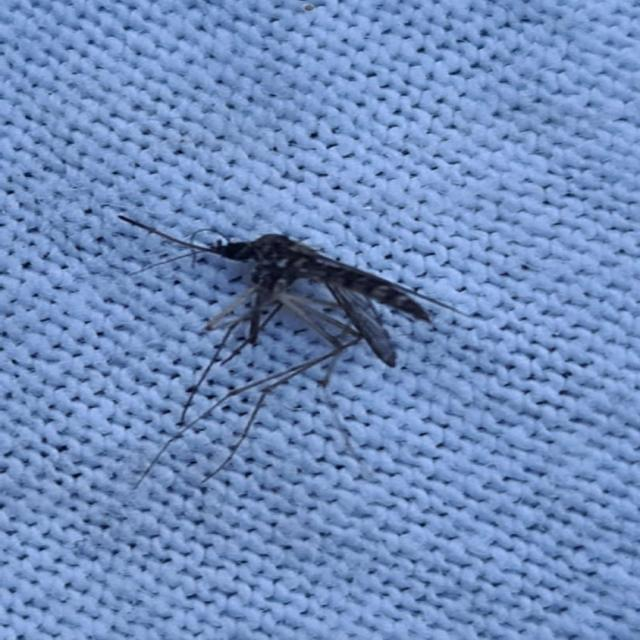albopictus: (98, 196, 498, 509)
